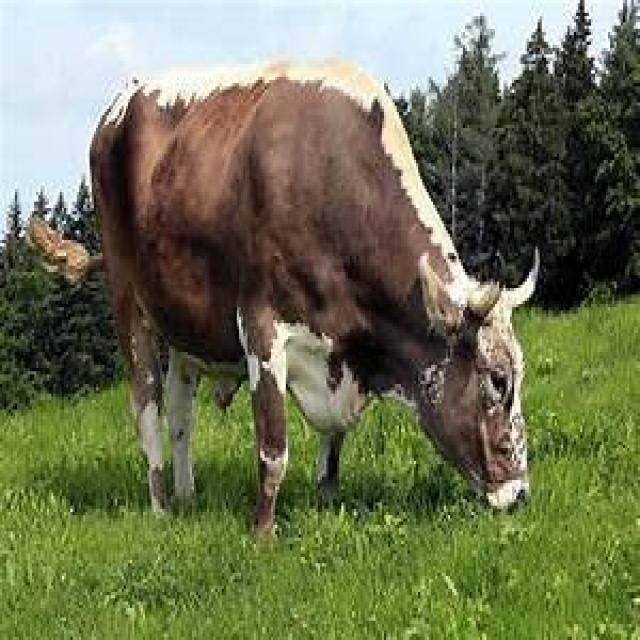cow: (87, 61, 538, 544)
